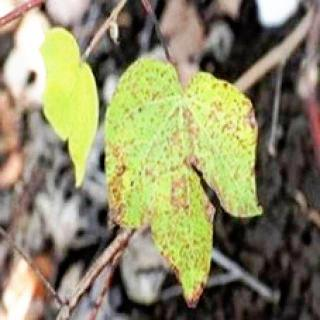leaf spot: (101, 58, 267, 308)
